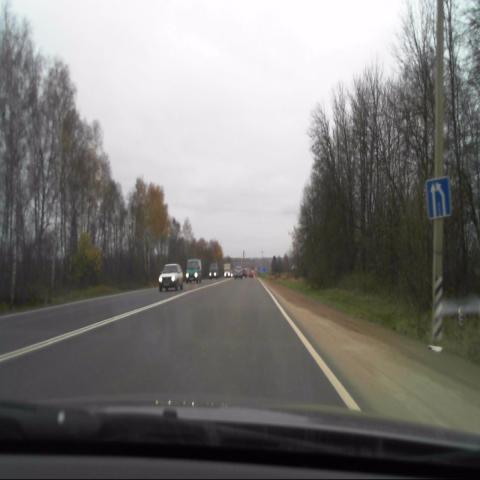5_15_5: (426, 177, 452, 222)
